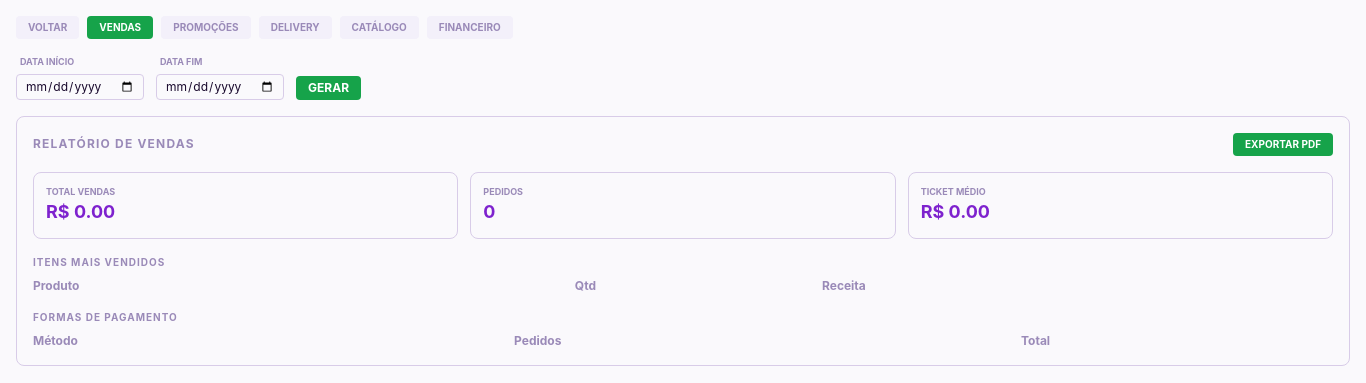
Test: ReportsScreen › dry run: renderiza, troca para aba delivery, verifica KPIs e tabela
Click the button "Delivery": {"x": 295, "y": 28} [259,16,332,39]
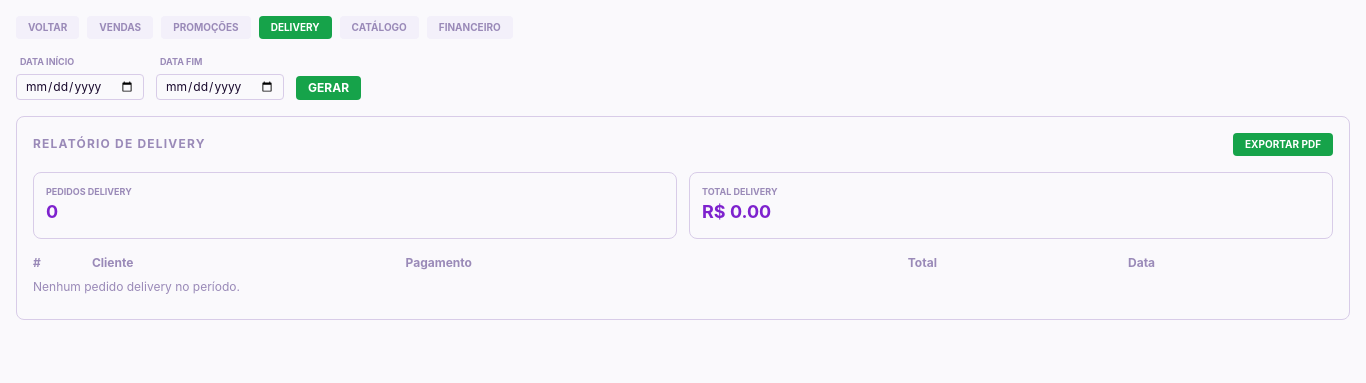
Expected: the text "Pedidos Delivery" is shown, [46,186,132,196]
Expected: the text "Total Delivery" is shown, [702,186,778,196]
Expected: the text "Nenhum pedido delivery no período." is shown, [33,271,1333,303]
